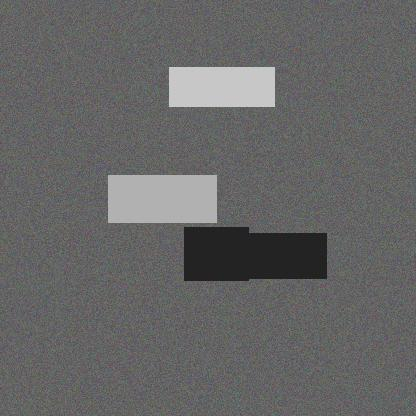empty: (43, 115, 125, 184)
occupied: (254, 187, 325, 264)
